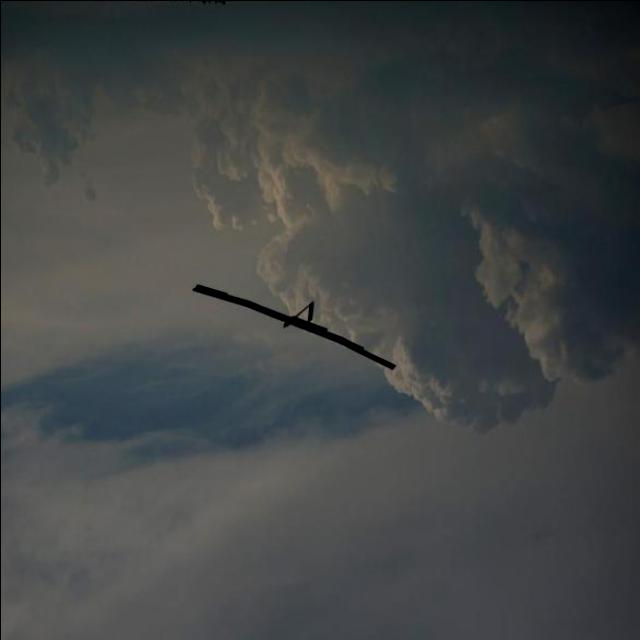plane: (192, 282, 398, 372)
